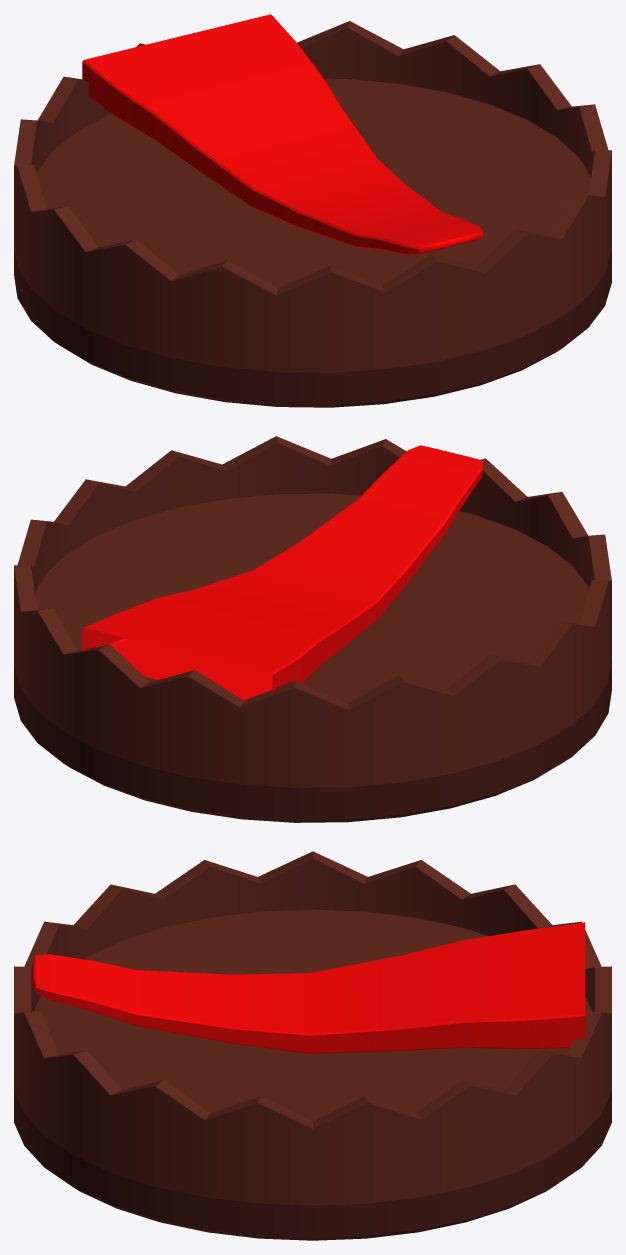
The model's file is P_Cake_Bottom.FBX.
3 renders of one model, top to bottom at view 1: azimuth 30°, elevation 25°; view 2: azimuth 150°, elevation 25°; view 3: azimuth 270°, elevation 25°, orthographic.
Parts seen in each view (by area): view 1: Cake_Bottom; view 2: Cake_Bottom; view 3: Cake_Bottom.
Boxes of the visible parts, x1=… form: Cake_Bottom: x1=14, y1=14, x2=611, y2=407; Cake_Bottom: x1=14, y1=436, x2=611, y2=822; Cake_Bottom: x1=14, y1=851, x2=611, y2=1240.
Bounding box in the file's own units: 42.33 × 42.15 × 11.61.
